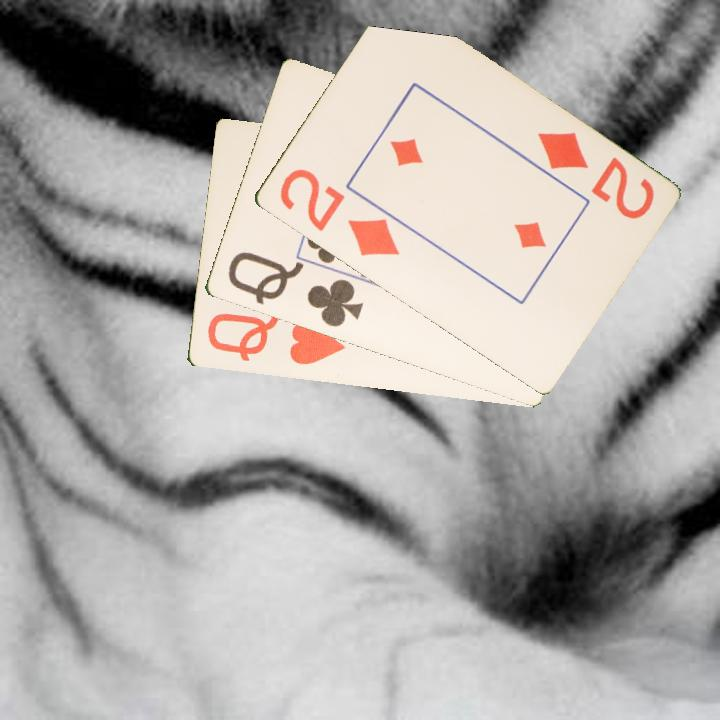2d: (275, 165, 402, 260), (533, 128, 657, 223)
Qc: (223, 248, 366, 331)
Qh: (203, 309, 347, 369)
